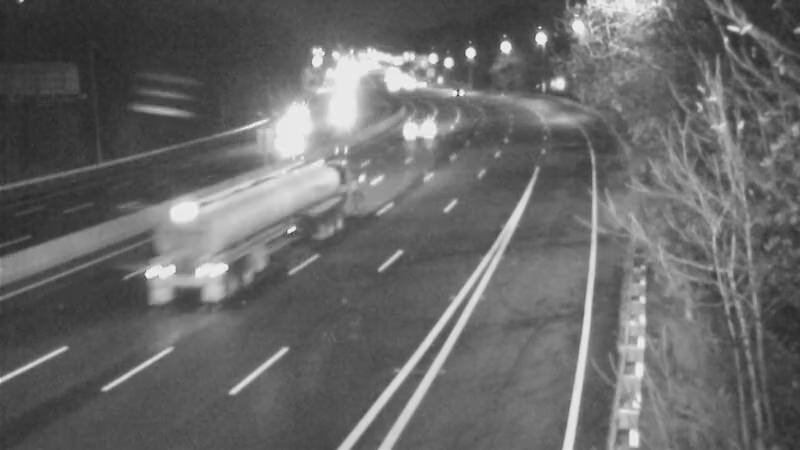vehicle: (159, 192, 239, 272), (442, 67, 492, 117), (391, 102, 441, 152), (268, 119, 318, 169)
